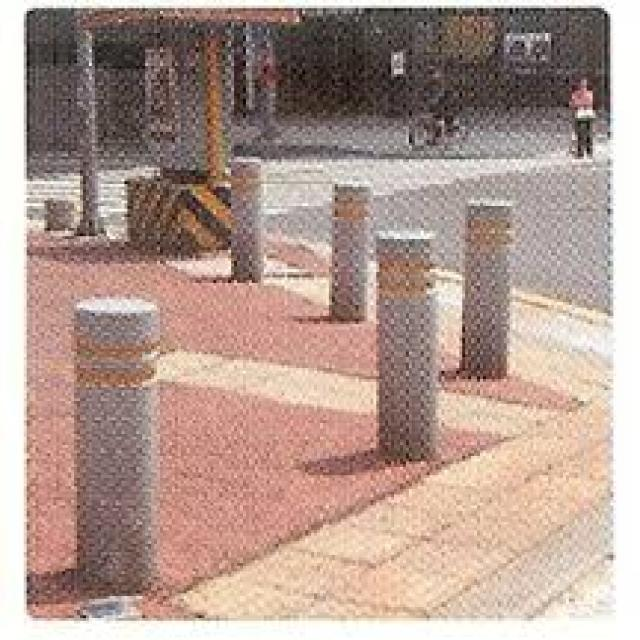bollard: (64, 286, 167, 598), (370, 227, 446, 468), (454, 192, 518, 388), (324, 170, 371, 314), (226, 150, 270, 286)
